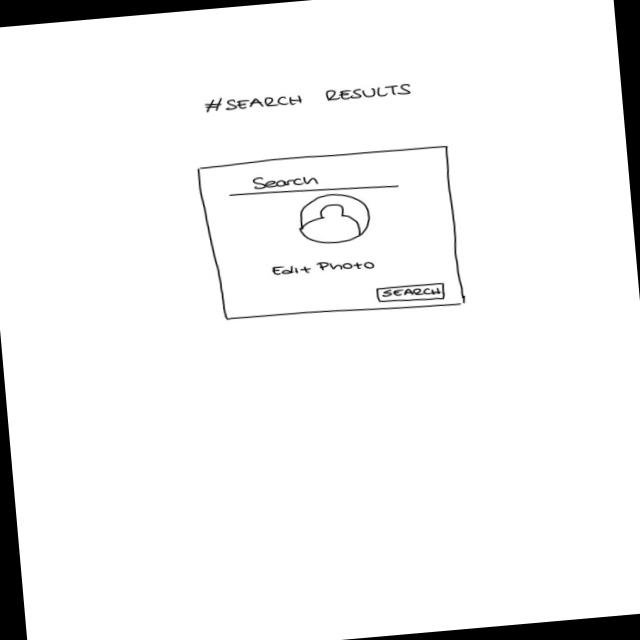button: (375, 280, 449, 306)
container: (196, 142, 468, 328)
image: (296, 190, 375, 248)
input: (226, 163, 400, 204)
label: (201, 78, 418, 116), (269, 256, 382, 282)
